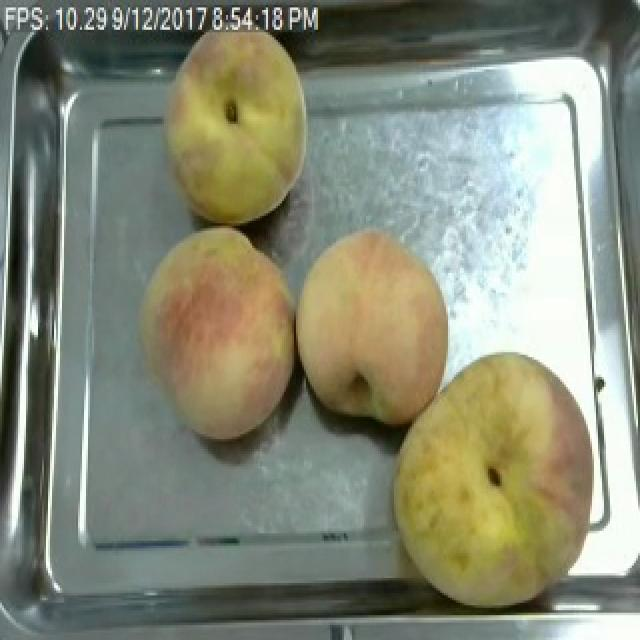Fruit: (376, 340, 618, 615), (128, 218, 302, 449), (292, 220, 460, 437), (152, 15, 320, 231)
